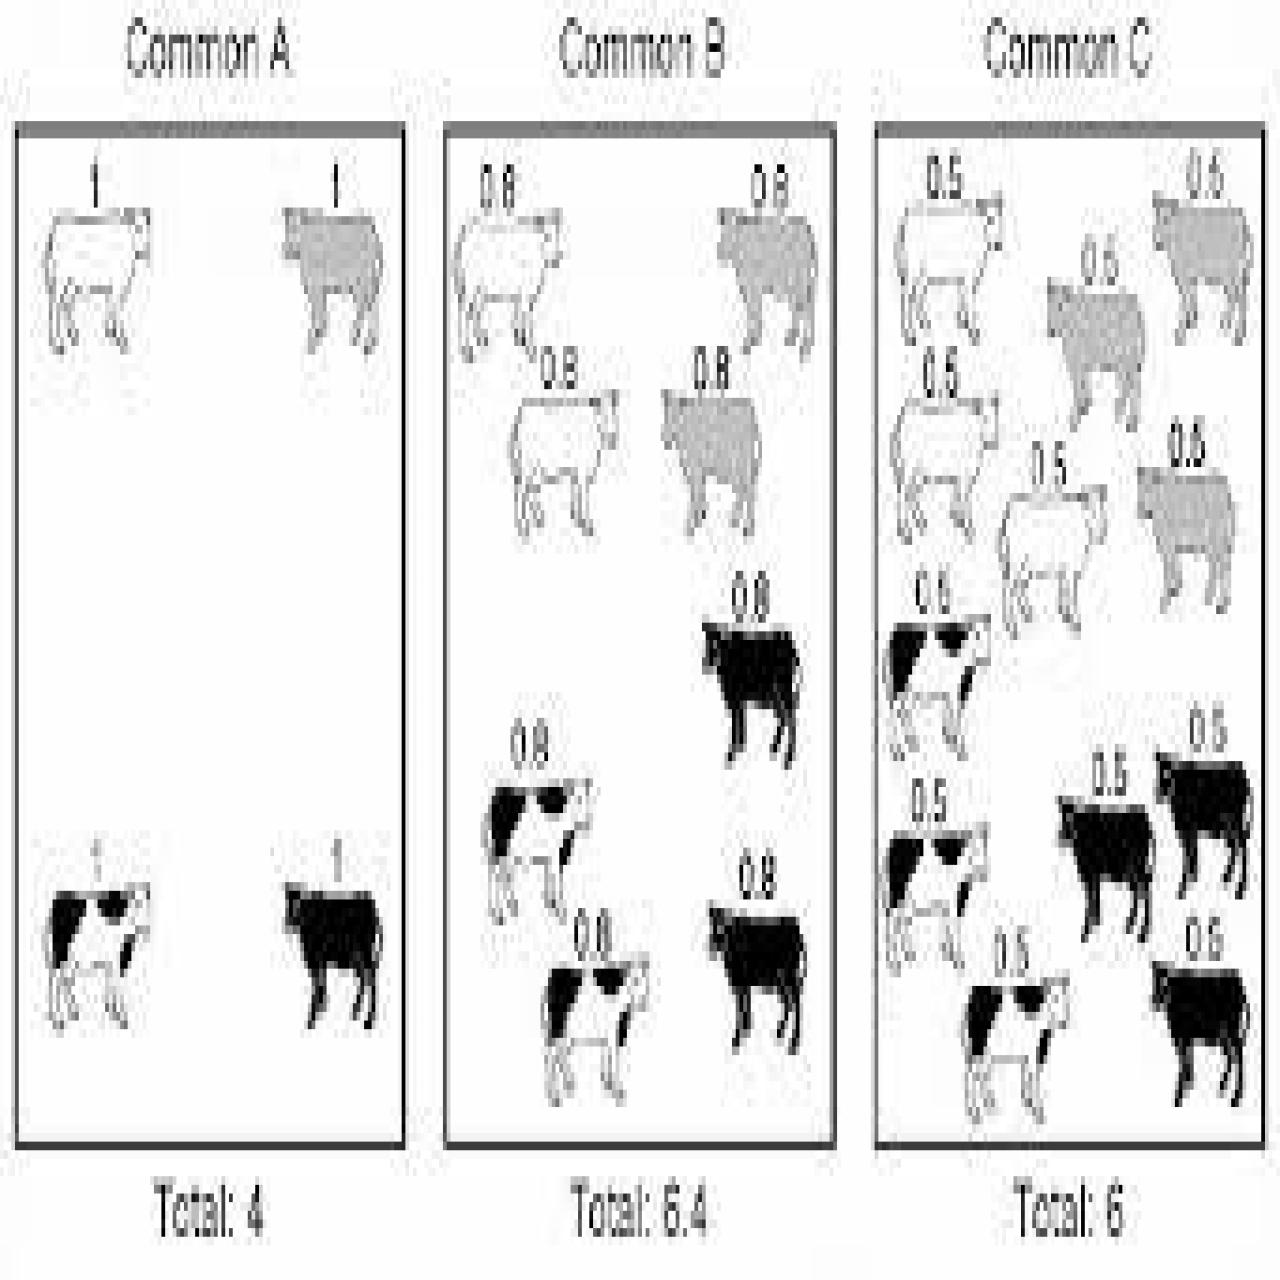cow: (893, 185, 1006, 350), (41, 195, 154, 359), (995, 476, 1108, 640), (883, 601, 995, 765), (535, 952, 652, 1107), (958, 968, 1074, 1124), (450, 207, 563, 363), (887, 384, 1000, 540), (880, 817, 993, 973), (509, 381, 621, 536), (482, 770, 594, 925), (1151, 182, 1255, 346), (1149, 947, 1253, 1111), (45, 878, 154, 1033), (1047, 272, 1149, 437), (279, 203, 384, 359), (715, 203, 821, 359), (697, 614, 803, 770), (279, 878, 384, 1033), (1053, 788, 1158, 942), (1151, 744, 1255, 899), (662, 389, 764, 545), (706, 900, 808, 1055), (1137, 463, 1234, 618)
